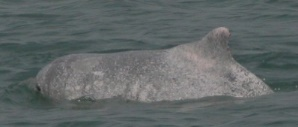fin: (30, 19, 280, 110)
